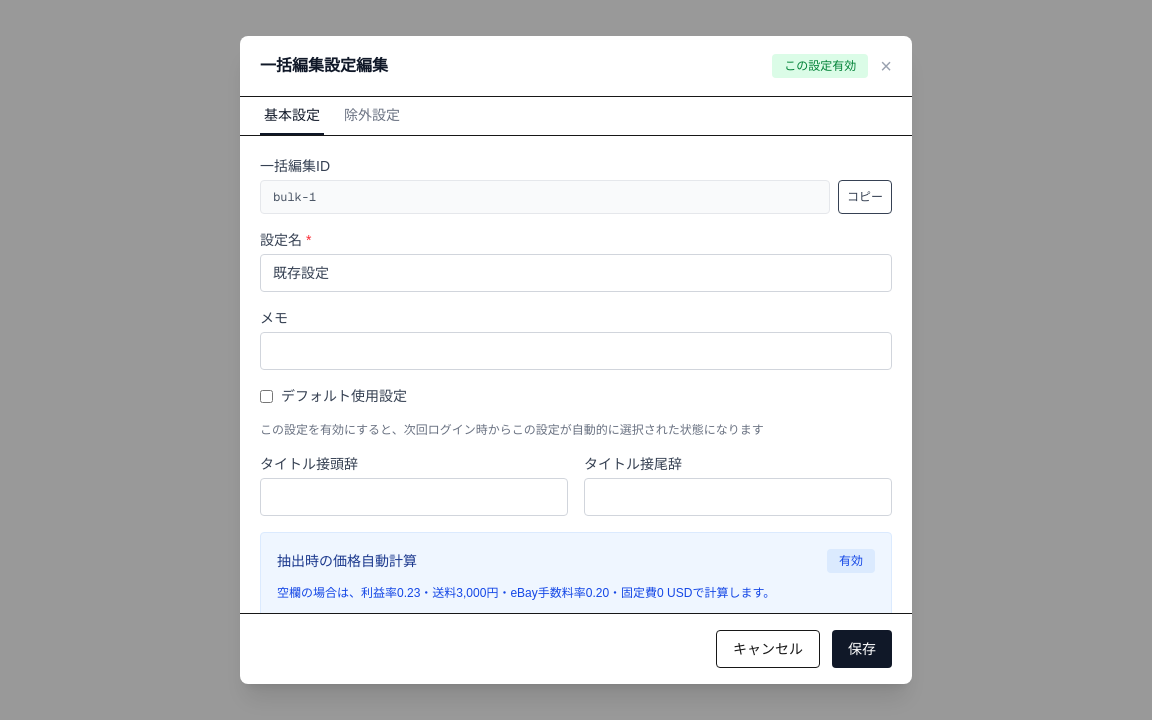
Test: BulkEditSettingModal › 危険セラー除外を開くと専用リストを取得し、追加・削除ができる
Click the button "除外設定". click: (372, 116)
box: [340,97,404,135]
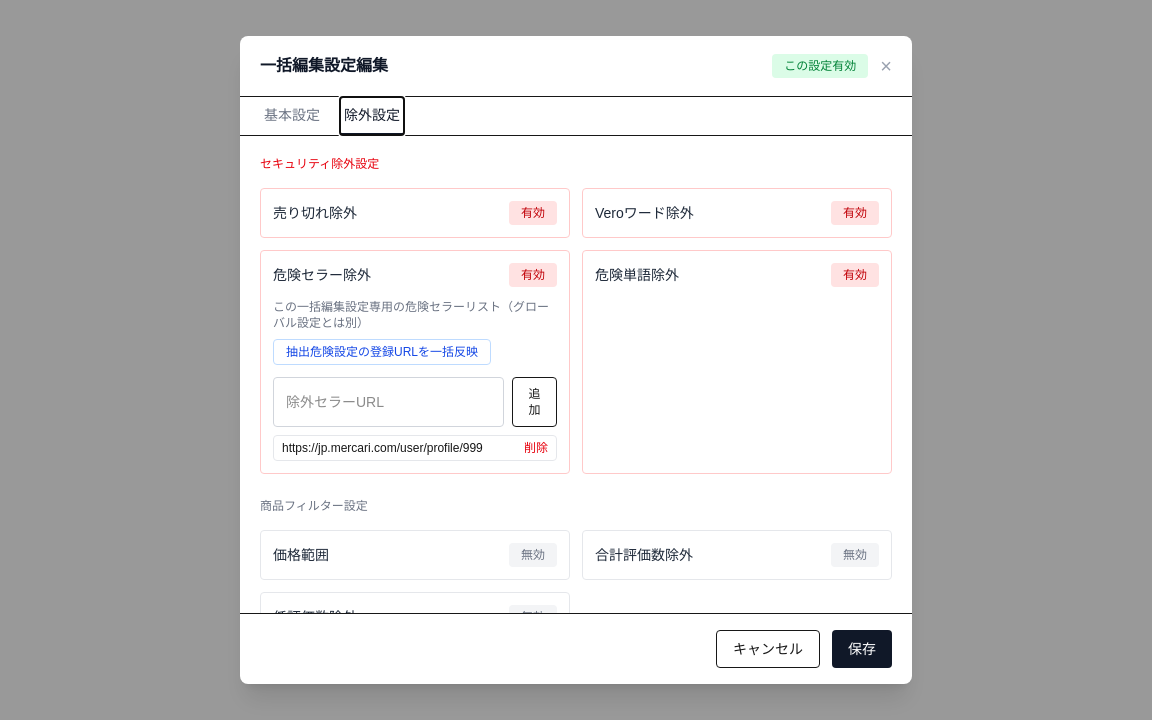
Check: the text "https://jp.mercari.com/user/profile/999" is shown, box [282,440,483,456]
Type "https://jp.mercari.com/user/profile/111" into the field with placeholder "除外セラーURL". click: (388, 402)
box: [273,377,504,427]
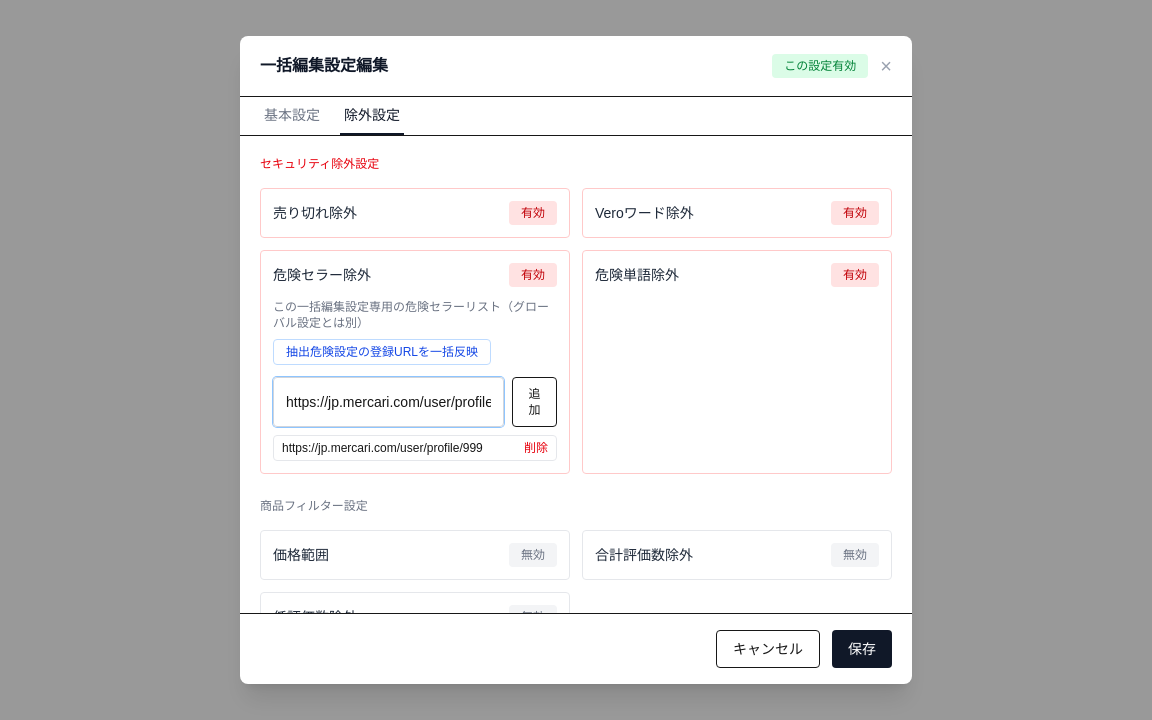
Click the button "追加". click: (534, 402)
box: [512,377,557,427]
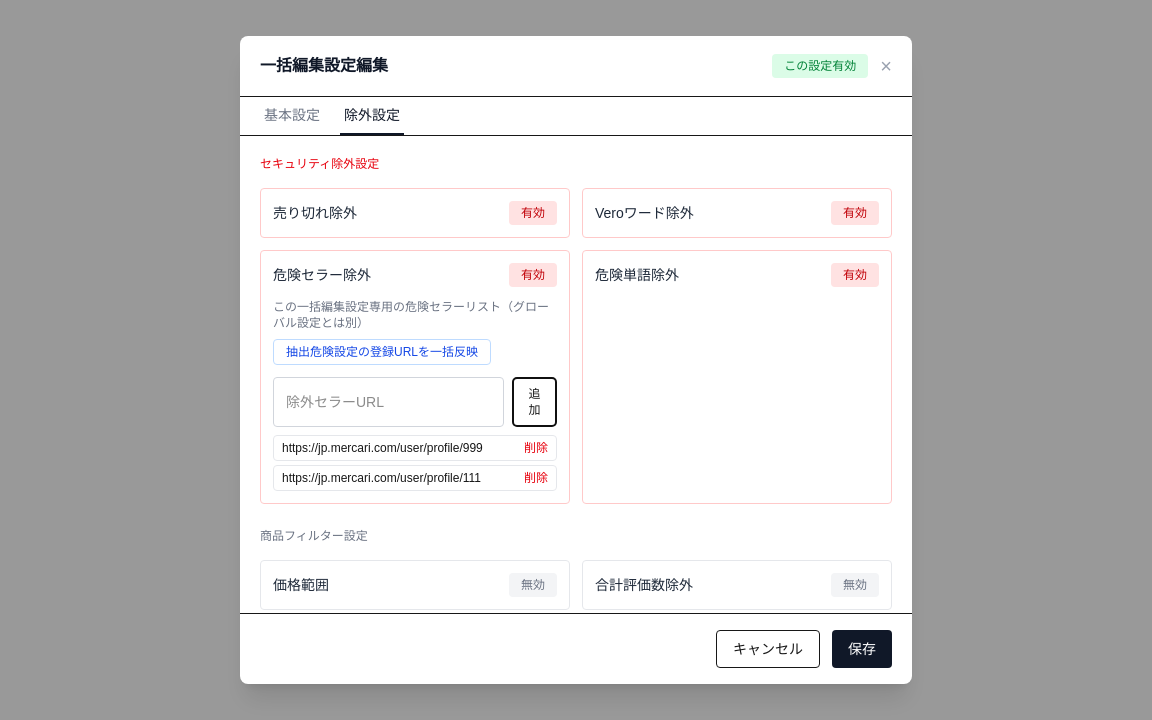
Check: the text "https://jp.mercari.com/user/profile/111" is shown, box [282,470,481,486]
Click the button "削除" next to "https://jp.mercari.com/user/profile/999". click: (536, 448)
box: [524,440,548,456]
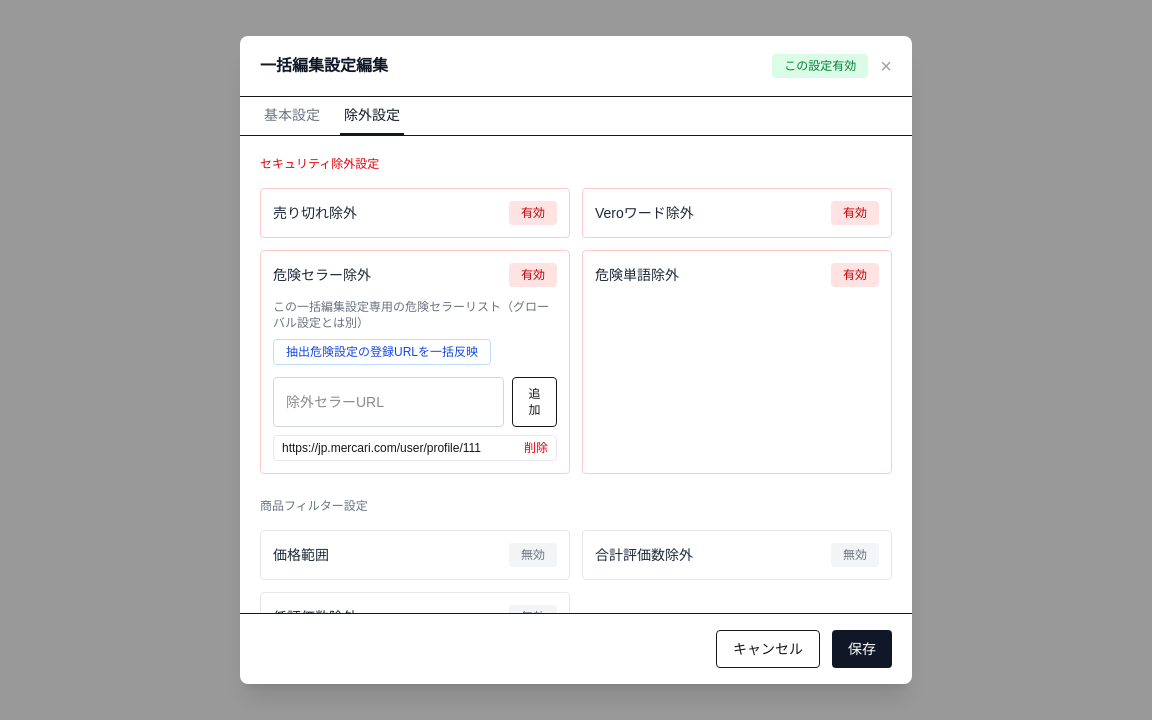
Check: the text "https://jp.mercari.com/user/profile/999" is gone
